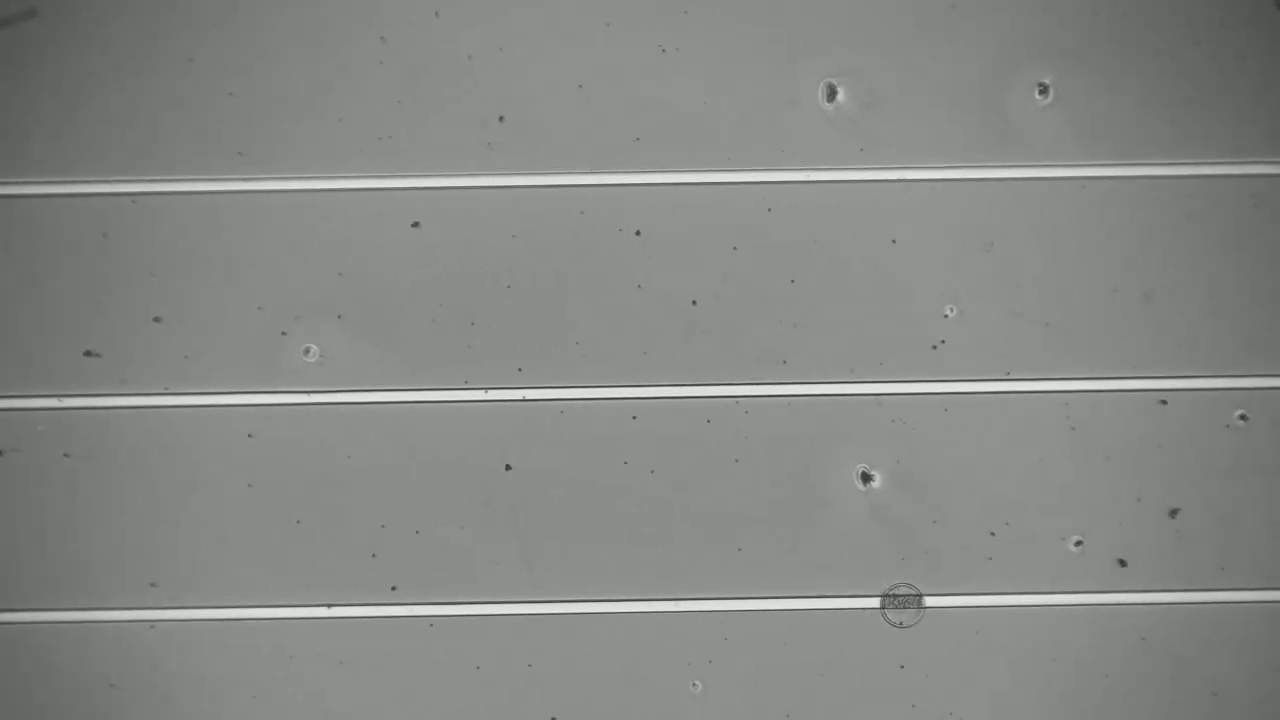gray_line: (869, 583, 937, 616)
